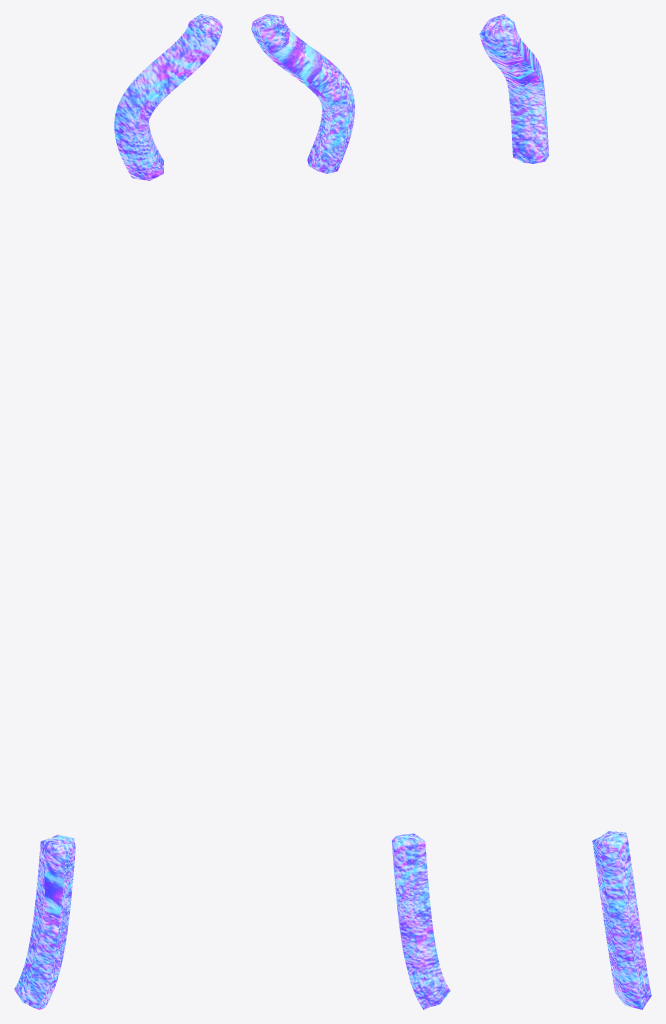
3 views of the same model, side by side, from view 1: azimuth 30°, elevation 25°; view 2: azimuth 210°, elevation 25°; view 3: azimuth 270°, elevation 25° (orthographic). The views are drawn at different scales.
Visible parts, largest first — view 1: Piping.mdd; view 2: Piping.mdd; view 3: Piping.mdd.
Part boxes in pixels (x1,y1,x2,y2): Piping.mdd: (14, 14, 222, 1009); Piping.mdd: (251, 14, 450, 1009); Piping.mdd: (479, 14, 651, 1009).
Size of the model in its own units: 0.9639 by 6.93 by 1.04.
